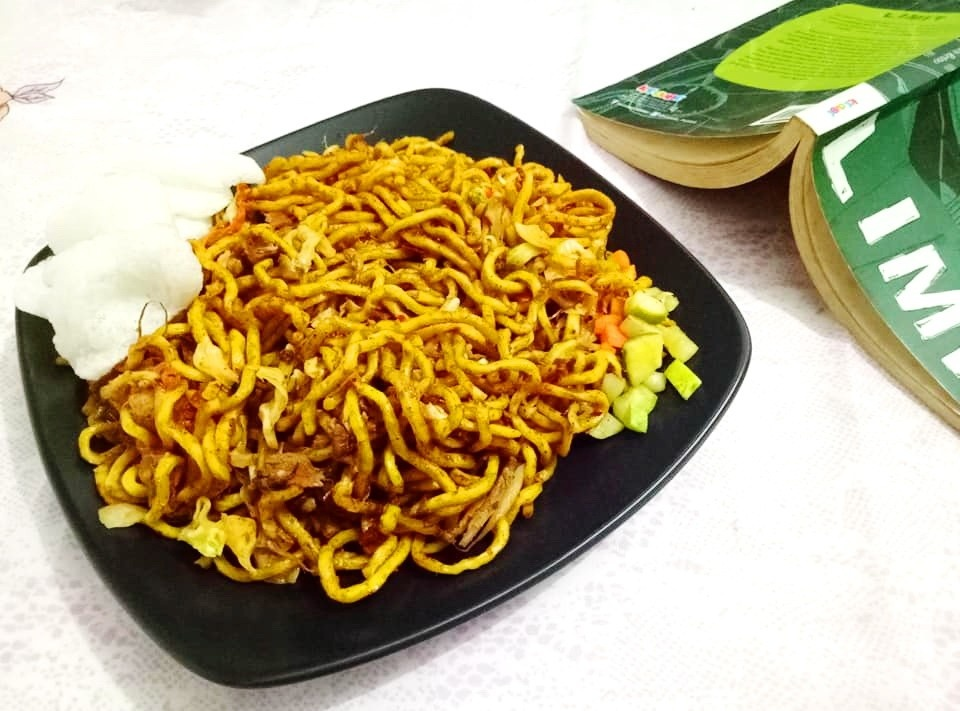mie_aceh: (77, 143, 680, 587)
